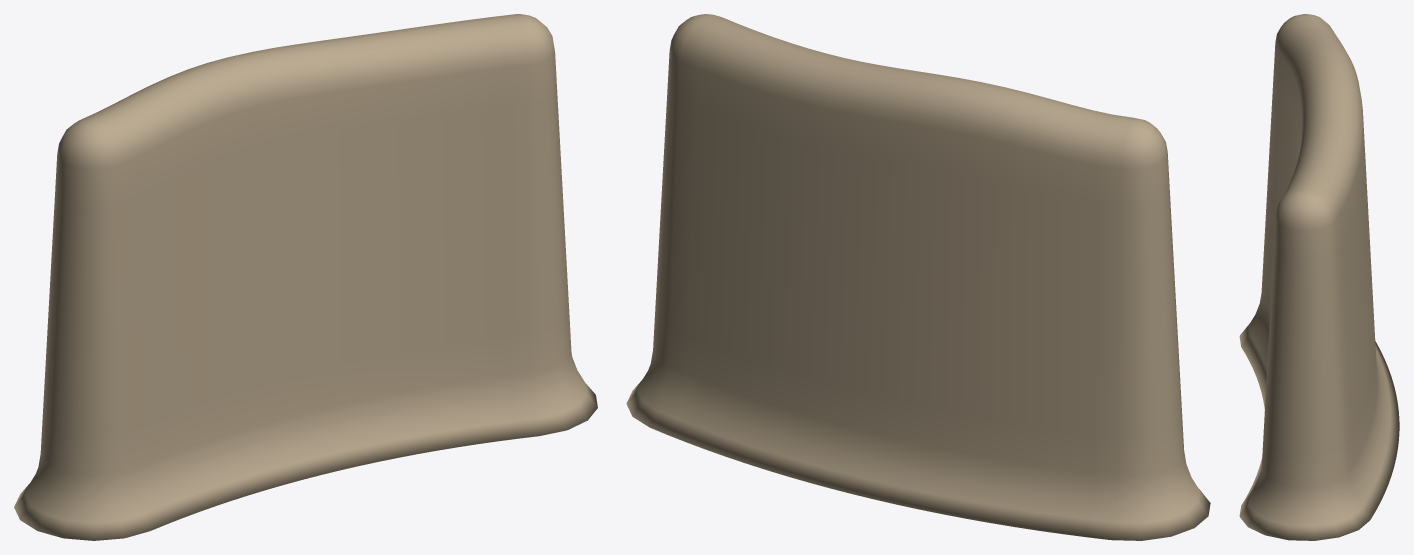
The model's file is KFB_Wall_curved_ring_r2_capAB.r4.glb.
3 renders of one model, left to right at view 1: azimuth 30°, elevation 25°; view 2: azimuth 150°, elevation 25°; view 3: azimuth 270°, elevation 25°, orthographic. The views are drawn at different scales.
Visible parts, largest first — view 1: KFB_Wall_curved_ring_r2_capAB; view 2: KFB_Wall_curved_ring_r2_capAB; view 3: KFB_Wall_curved_ring_r2_capAB.
Boxes of the visible parts, x1,y1,x2,y2 form: KFB_Wall_curved_ring_r2_capAB: [14, 14, 597, 540]; KFB_Wall_curved_ring_r2_capAB: [626, 14, 1210, 540]; KFB_Wall_curved_ring_r2_capAB: [1239, 14, 1399, 540].
Size of the model in its own units: 5.48 by 3.71 by 1.62.
